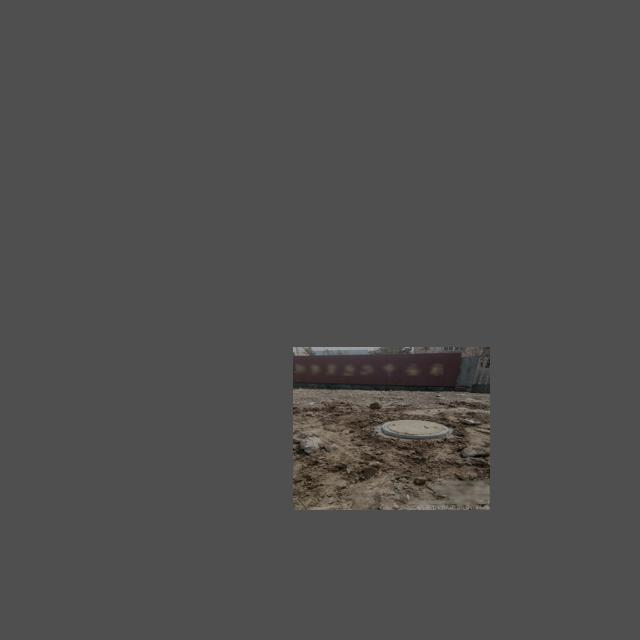good: (377, 418, 449, 436)
